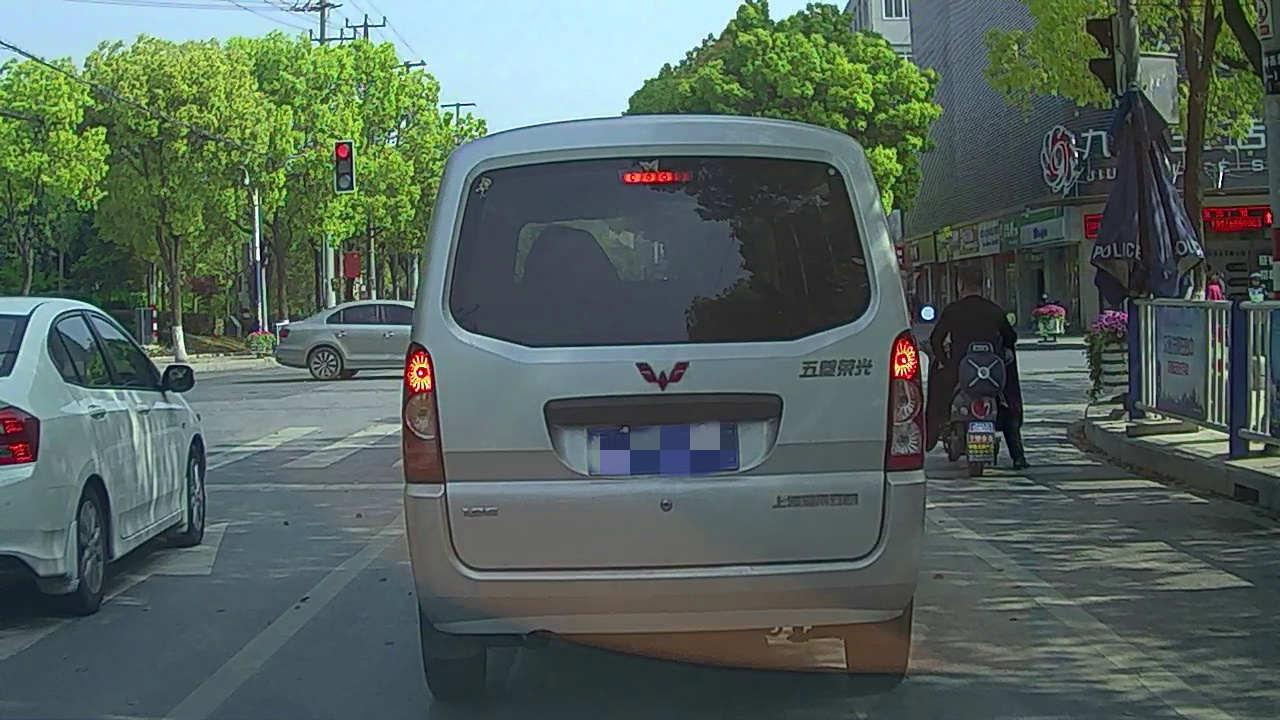traffic_light: (334, 141, 355, 191)
